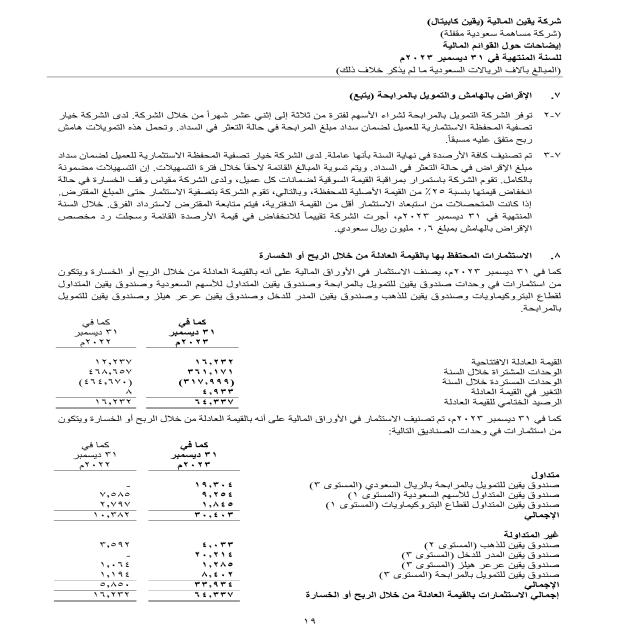notes: (412, 41, 570, 52)
table: (42, 316, 248, 412), (48, 437, 242, 528), (38, 531, 250, 613)
